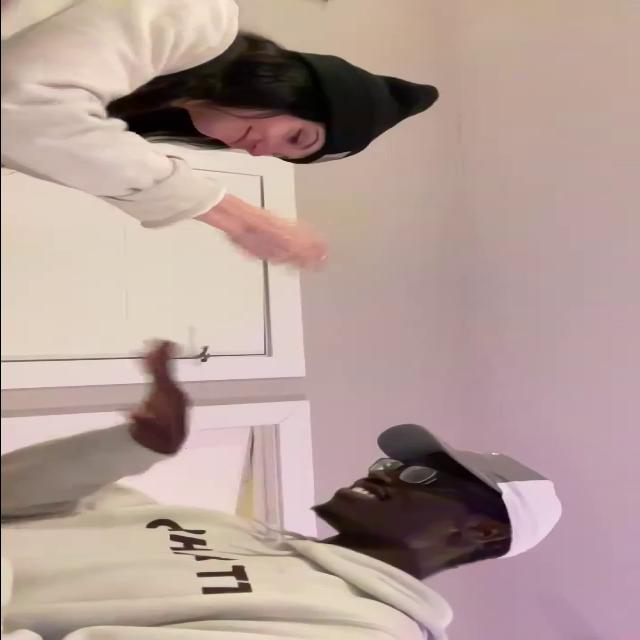Paper: (131, 340, 191, 454)
Scissors: (234, 213, 332, 280)
